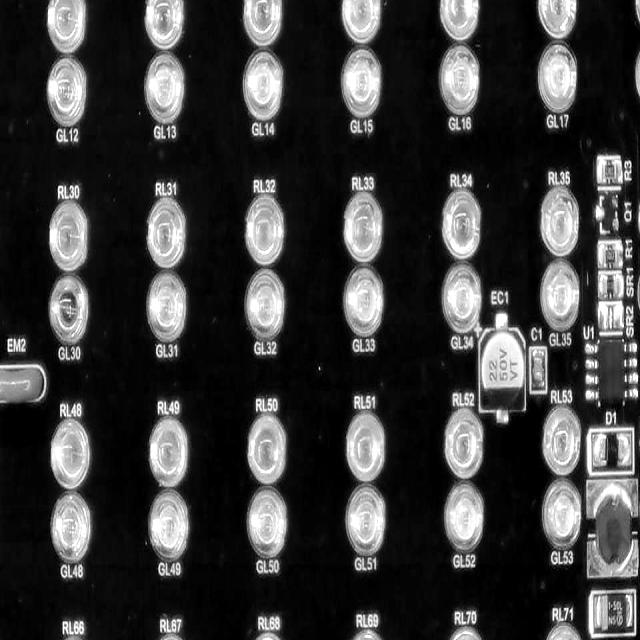Capacitor: (482, 332, 526, 413), (600, 594, 628, 634), (533, 349, 545, 387)
Diode: (600, 438, 624, 462)
EMC filter: (0, 364, 44, 405)
IC: (595, 337, 627, 409)
Inductor: (594, 489, 632, 564)
Mosfet: (597, 194, 620, 233)
Register: (604, 305, 618, 331), (602, 278, 620, 294), (603, 248, 618, 264), (603, 163, 616, 180)
Soldering: (594, 433, 605, 465), (622, 435, 632, 470), (615, 304, 624, 333), (616, 241, 625, 270), (598, 305, 608, 331), (596, 272, 606, 296), (617, 157, 625, 186), (596, 244, 605, 268), (598, 156, 606, 183), (596, 597, 602, 628), (617, 274, 624, 298), (596, 206, 605, 223)
led: (340, 262, 386, 340), (245, 411, 289, 489), (342, 487, 388, 559), (437, 45, 483, 116), (147, 486, 190, 561), (48, 199, 90, 275), (245, 268, 288, 342), (342, 190, 385, 264), (49, 488, 93, 560), (544, 475, 584, 554), (244, 193, 286, 268), (539, 256, 581, 331), (45, 55, 88, 128), (49, 418, 92, 490), (240, 50, 283, 122), (445, 480, 485, 557), (340, 46, 382, 119), (344, 412, 386, 485), (442, 188, 483, 262), (443, 408, 484, 482), (536, 40, 578, 112), (144, 53, 186, 124), (442, 258, 481, 334), (542, 403, 582, 477), (540, 185, 580, 259), (145, 198, 186, 270), (246, 487, 288, 556), (146, 273, 186, 343), (150, 416, 188, 488), (48, 275, 88, 343), (46, 0, 89, 55), (141, 0, 185, 51), (242, 0, 283, 49), (438, 0, 480, 45), (341, 0, 382, 46), (537, 0, 577, 41), (542, 621, 584, 640), (445, 624, 486, 640)
